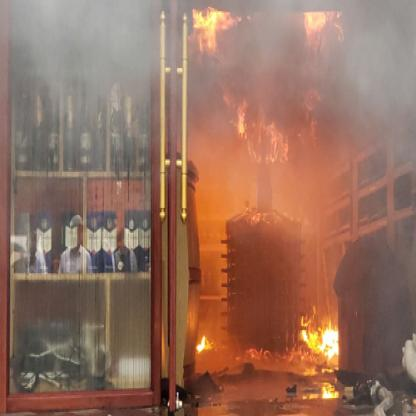fire: (301, 315, 347, 366), (196, 6, 238, 55), (301, 9, 342, 46)
smoke: (0, 0, 415, 415)
